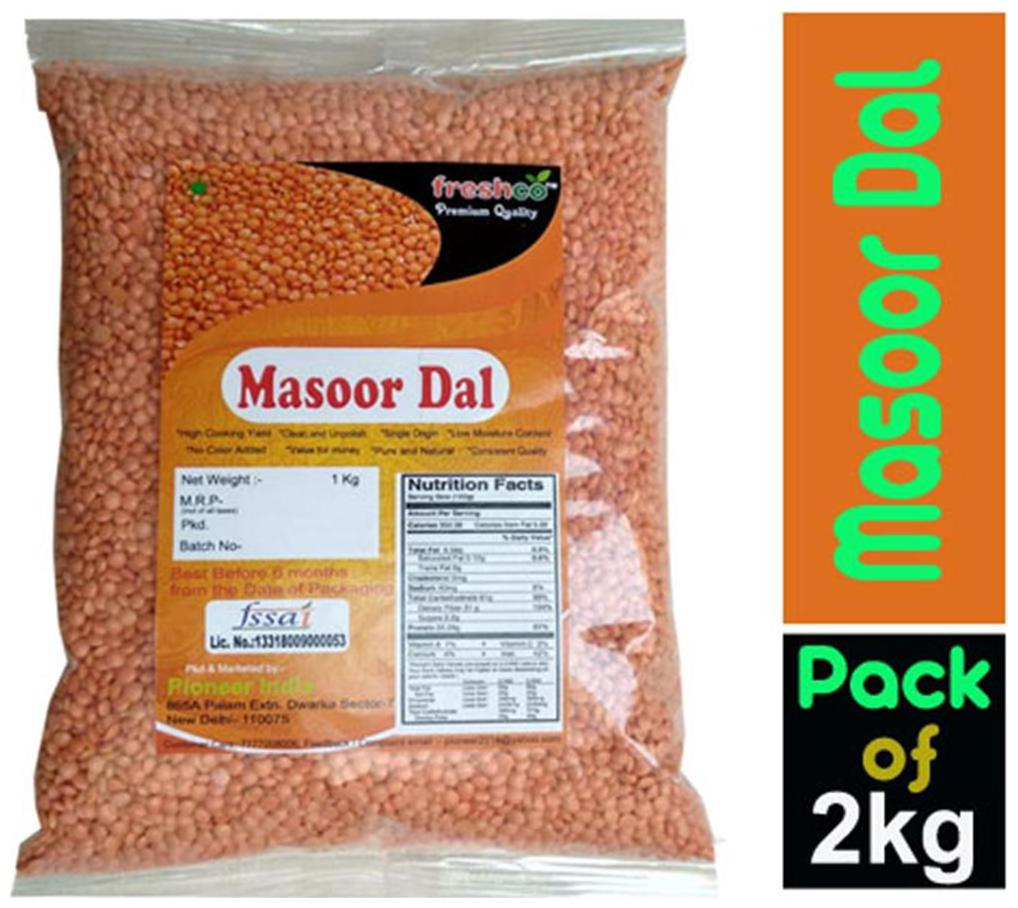fssai: (231, 601, 317, 630)
